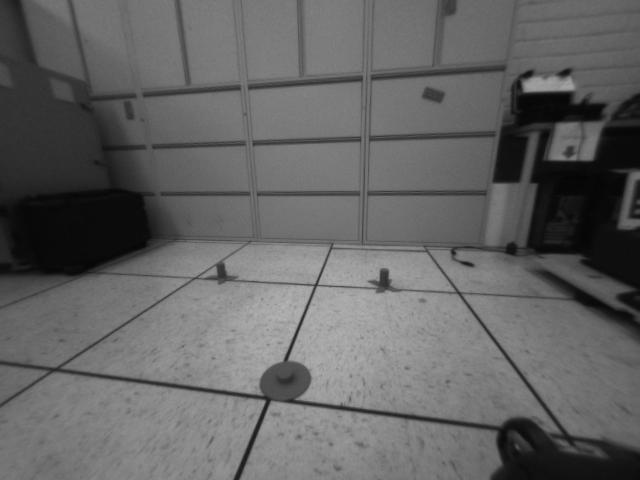X: (368, 267, 402, 294), (204, 260, 240, 285)
